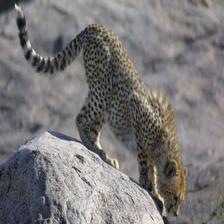Cheetah: (12, 0, 184, 218)
